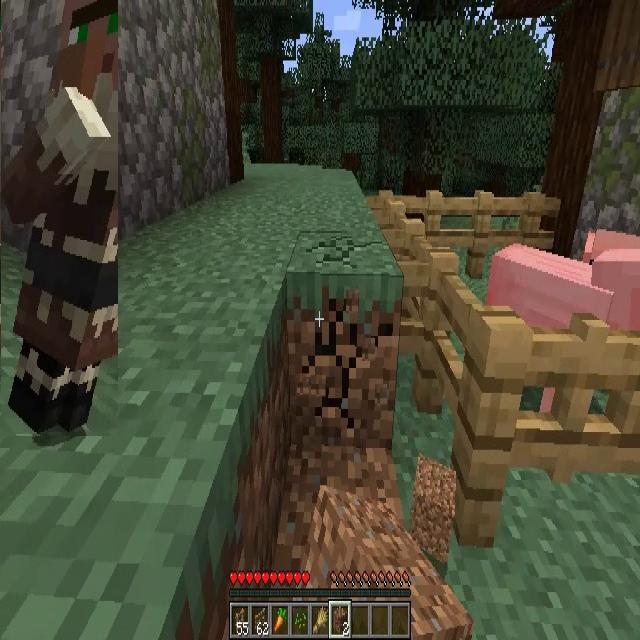people: (1, 0, 118, 436)
pig: (484, 229, 638, 404)
